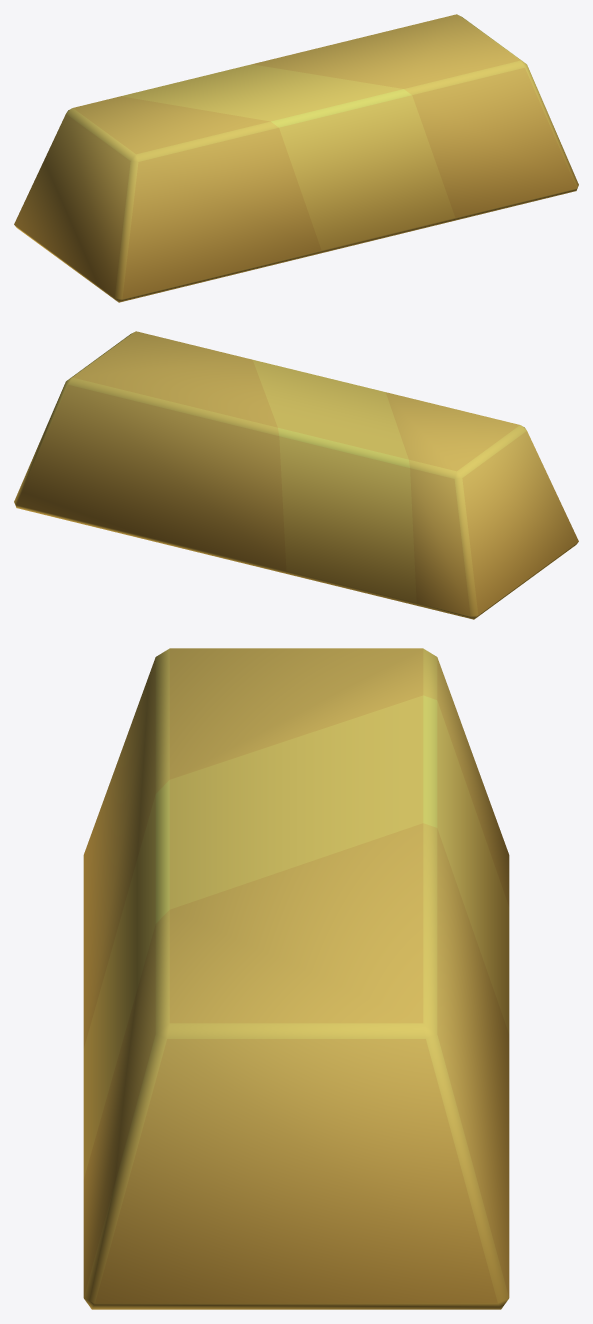
The model's file is Ingot_Gold_1.glb.
3 views of the same model, one above another, from view 1: azimuth 30°, elevation 25°; view 2: azimuth 150°, elevation 25°; view 3: azimuth 270°, elevation 25° (orthographic). The views are drawn at different scales.
Parts seen in each view (by area): view 1: Ingot_Gold_1; view 2: Ingot_Gold_1; view 3: Ingot_Gold_1.
Boxes of the visible parts, <box> form: Ingot_Gold_1: <box>14,14,578,302</box>; Ingot_Gold_1: <box>14,331,578,619</box>; Ingot_Gold_1: <box>83,648,509,1309</box>.
Size of the model in its own units: 0.994 by 0.256 by 0.3944.
